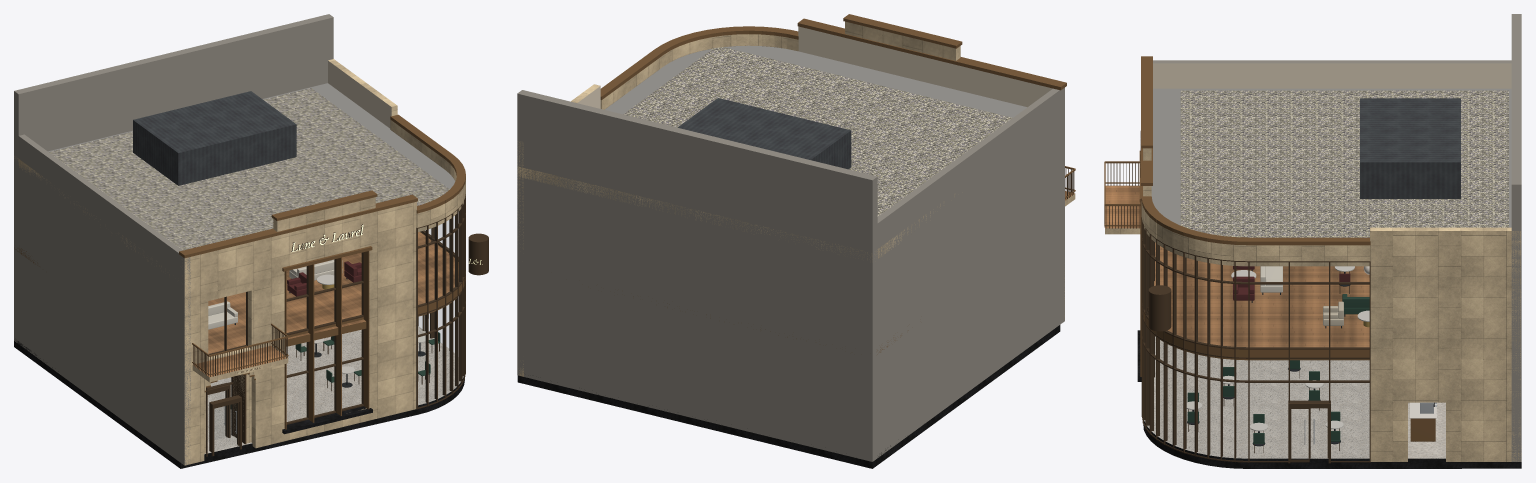
Rendered from lune_and_laurel_LOD0.fbx.
3 views of the same model, side by side, from view 1: azimuth 30°, elevation 25°; view 2: azimuth 150°, elevation 25°; view 3: azimuth 270°, elevation 25° (orthographic). The views are drawn at different scales.
Visible parts, largest first — view 1: B03_LOD0_BUILDING_EXTERIOR_Stone, B03_LOD0_BUILDING_EXTERIOR_Roof, B03_LOD0_BUILDING_EXTERIOR_RearInterface, B03_LOD0_BUILDING_INTERIOR_GroundSlab, B03_LOD0_GLASS_SYSTEM_CornerFrame, B03_LOD0_BUILDING_INTERIOR_FirstSlab, B03_LOD0_FACADE_DETAILS_Bronze, B03_LOD0_GLASS_SYSTEM_TallWindowFrame, B03_LOD0_FURNITURE_Cafe, B03_LOD0_FACADE_DETAILS_CornerBands, B03_LOD0_FACADE_DETAILS_BalconyRail, B03_LOD0_GLASS_SYSTEM_BalconyDoorFrame (+3 smaller); view 2: B03_LOD0_BUILDING_EXTERIOR_Stone, B03_LOD0_BUILDING_EXTERIOR_RearInterface, B03_LOD0_BUILDING_EXTERIOR_Roof, B03_LOD0_FACADE_DETAILS_CornerBands, B03_LOD0_BUILDING_INTERIOR_GroundSlab, B03_LOD0_FACADE_DETAILS_Bronze; view 3: B03_LOD0_BUILDING_EXTERIOR_Roof, B03_LOD0_BUILDING_EXTERIOR_Stone, B03_LOD0_BUILDING_INTERIOR_GroundSlab, B03_LOD0_GLASS_SYSTEM_CornerFrame, B03_LOD0_BUILDING_INTERIOR_FirstSlab, B03_LOD0_FACADE_DETAILS_CornerBands, B03_LOD0_BUILDING_EXTERIOR_RearInterface, B03_LOD0_FURNITURE_Cafe, B03_LOD0_FACADE_DETAILS_Bronze, B03_LOD0_DISPLAY_OBJECTS_Pastry, B03_LOD0_SIGNAGE_Blade, B03_LOD0_FACADE_DETAILS_BalconyRail.
Part boxes in pixels (<box>): B03_LOD0_BUILDING_EXTERIOR_Stone: <box>14,59,416,465</box>; B03_LOD0_BUILDING_EXTERIOR_Roof: <box>14,83,463,274</box>; B03_LOD0_BUILDING_EXTERIOR_RearInterface: <box>14,14,333,342</box>; B03_LOD0_BUILDING_INTERIOR_GroundSlab: <box>14,326,464,468</box>; B03_LOD0_GLASS_SYSTEM_CornerFrame: <box>416,194,465,409</box>; B03_LOD0_BUILDING_INTERIOR_FirstSlab: <box>14,232,460,353</box>; B03_LOD0_FACADE_DETAILS_Bronze: <box>179,190,417,434</box>; B03_LOD0_GLASS_SYSTEM_TallWindowFrame: <box>284,251,369,429</box>; B03_LOD0_FURNITURE_Cafe: <box>208,259,440,408</box>; B03_LOD0_FACADE_DETAILS_CornerBands: <box>390,114,465,227</box>; B03_LOD0_FACADE_DETAILS_BalconyRail: <box>192,323,288,376</box>; B03_LOD0_GLASS_SYSTEM_BalconyDoorFrame: <box>208,291,247,456</box>; B03_LOD0_BUILDING_EXTERIOR_Stone: <box>517,21,1064,461</box>; B03_LOD0_BUILDING_EXTERIOR_RearInterface: <box>517,90,877,461</box>; B03_LOD0_BUILDING_EXTERIOR_Roof: <box>517,45,1026,259</box>; B03_LOD0_FACADE_DETAILS_CornerBands: <box>600,26,798,109</box>; B03_LOD0_BUILDING_INTERIOR_GroundSlab: <box>517,325,1060,468</box>; B03_LOD0_FACADE_DETAILS_Bronze: <box>797,14,1075,206</box>; B03_LOD0_BUILDING_EXTERIOR_Roof: <box>1144,88,1511,266</box>; B03_LOD0_BUILDING_EXTERIOR_Stone: <box>1143,60,1521,461</box>; B03_LOD0_BUILDING_INTERIOR_GroundSlab: <box>1143,336,1521,468</box>; B03_LOD0_GLASS_SYSTEM_CornerFrame: <box>1141,217,1370,463</box>; B03_LOD0_BUILDING_INTERIOR_FirstSlab: <box>1146,242,1369,360</box>; B03_LOD0_FACADE_DETAILS_CornerBands: <box>1141,196,1370,261</box>; B03_LOD0_BUILDING_EXTERIOR_RearInterface: <box>1511,14,1521,461</box>; B03_LOD0_FURNITURE_Cafe: <box>1186,266,1369,453</box>; B03_LOD0_FACADE_DETAILS_Bronze: <box>1105,56,1152,381</box>; B03_LOD0_DISPLAY_OBJECTS_Pastry: <box>1408,402,1436,441</box>; B03_LOD0_SIGNAGE_Blade: <box>1146,285,1171,331</box>; B03_LOD0_FACADE_DETAILS_BalconyRail: <box>1104,161,1140,228</box>.
Size of what is drawn, in the model's own units: 16.17 by 16.53 by 12.42.
